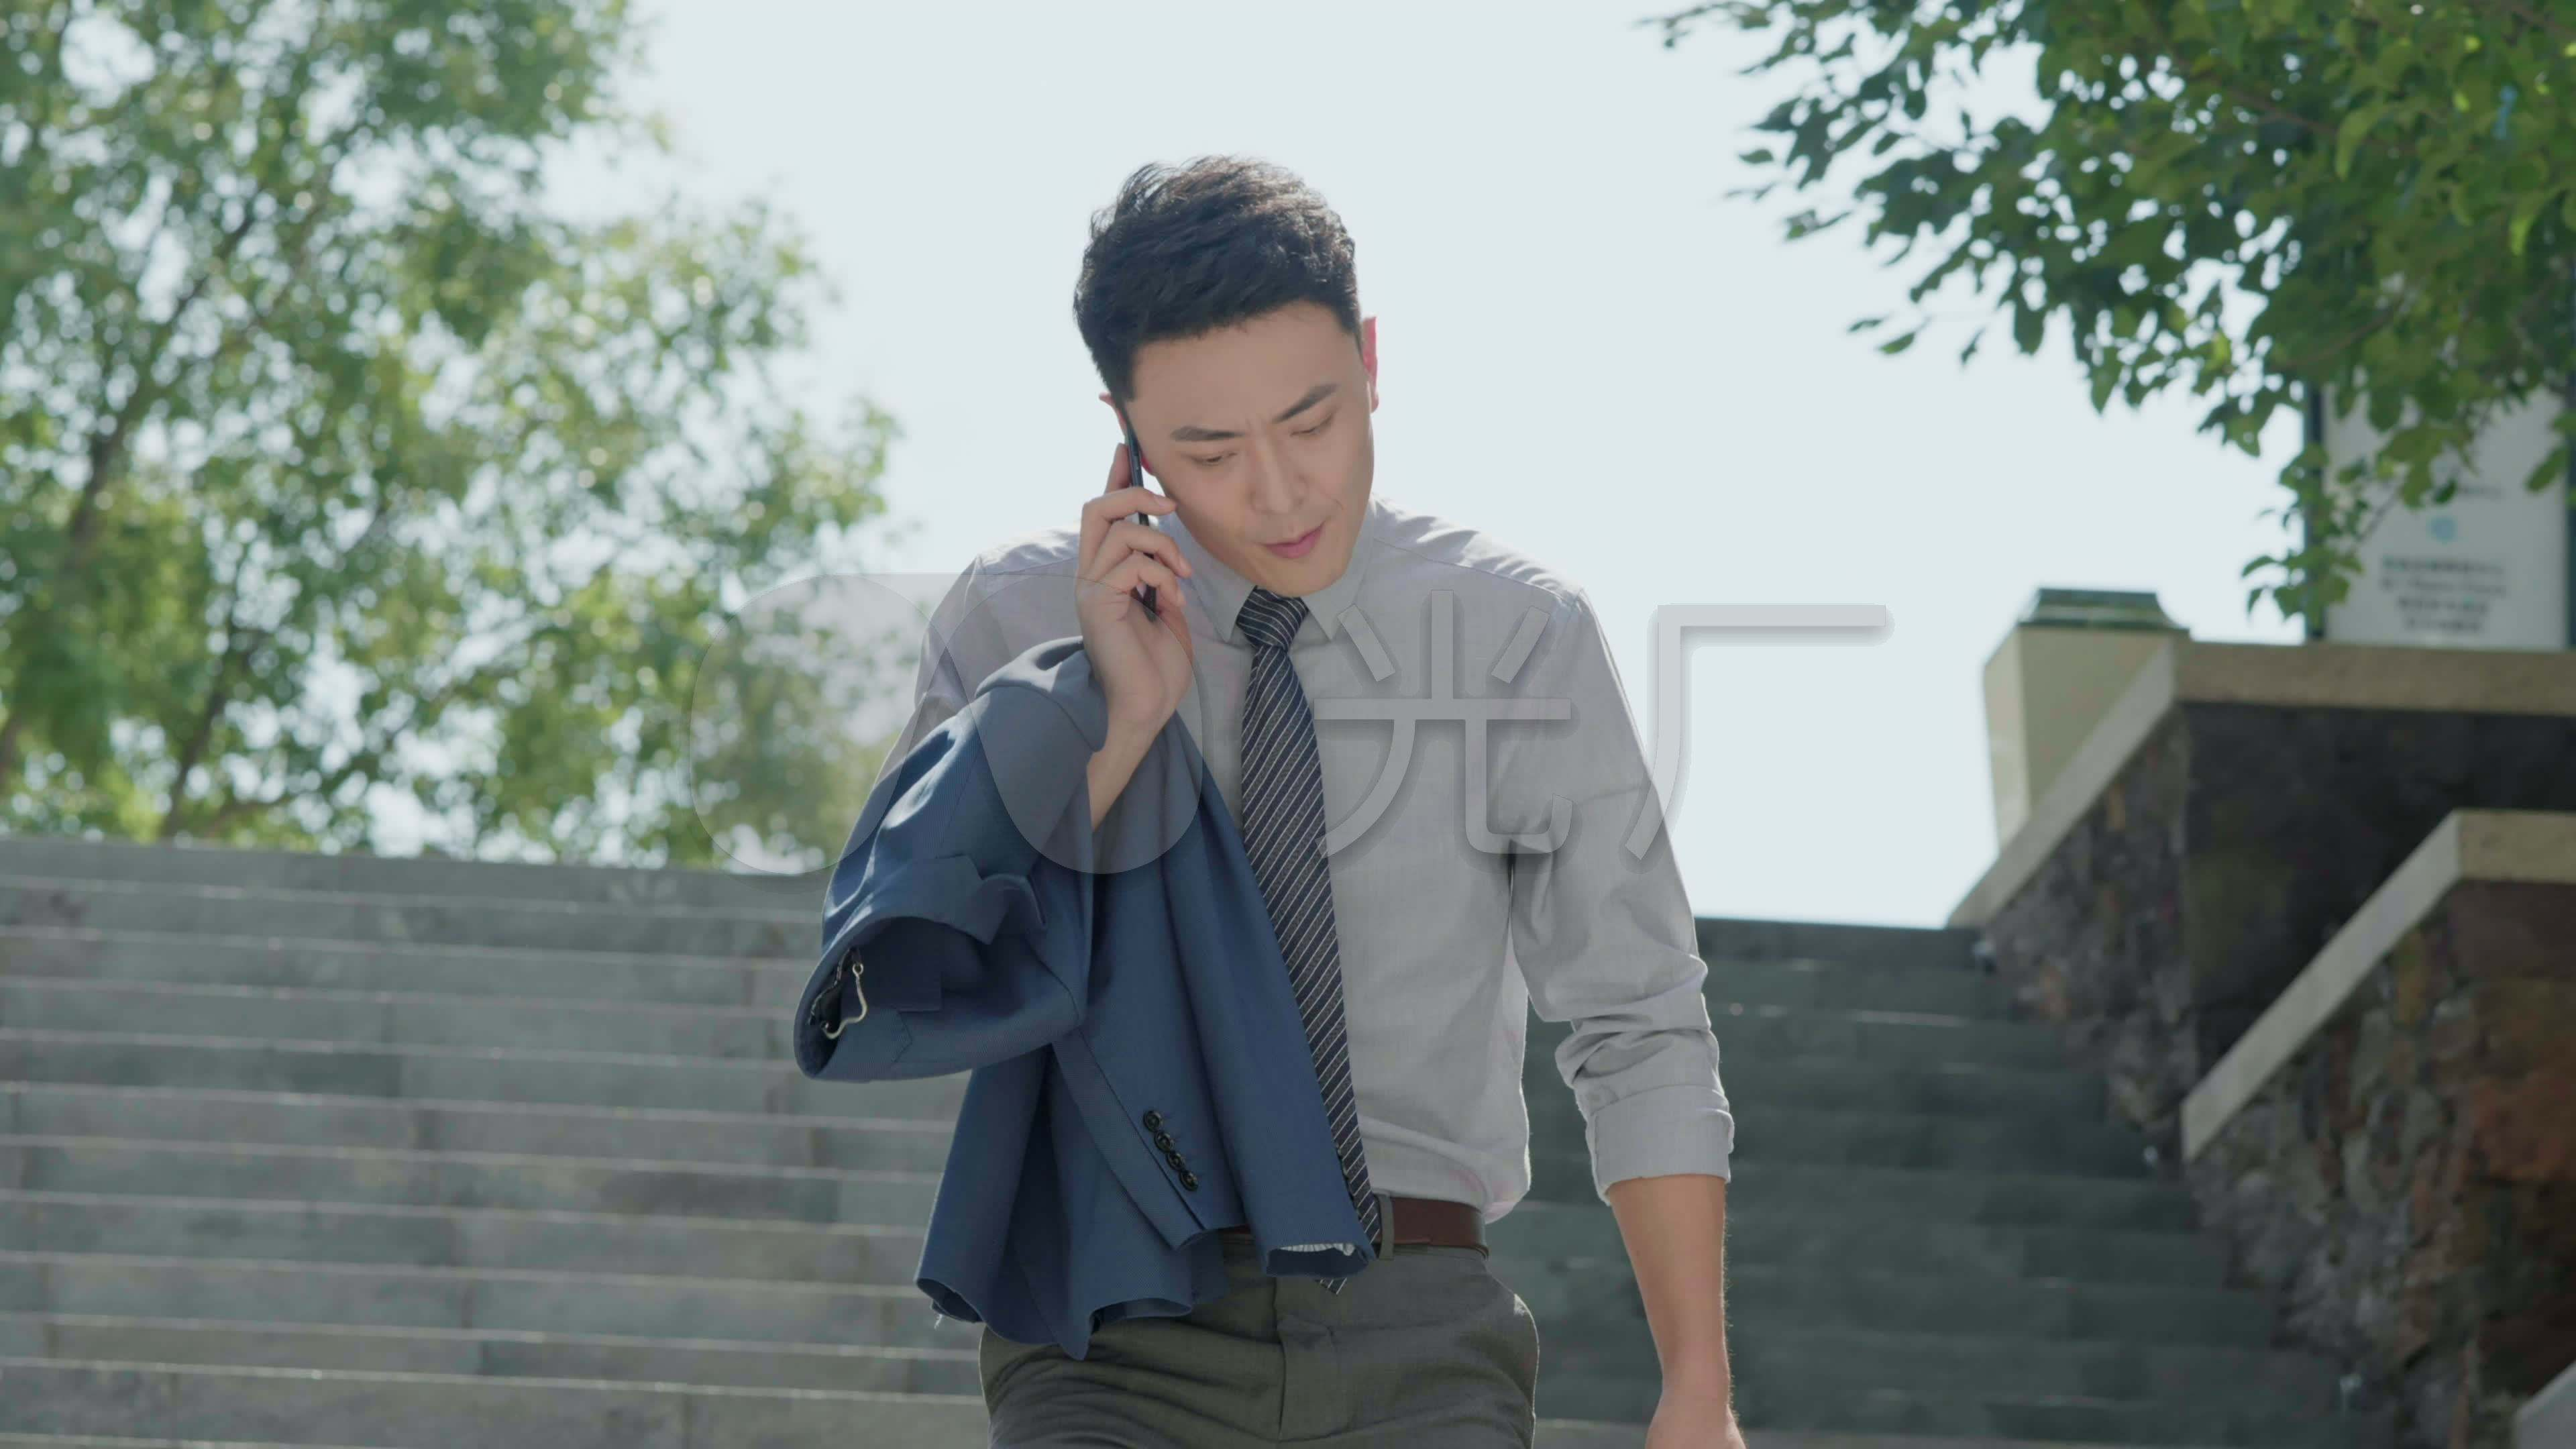calling: (1069, 419, 1201, 717)
